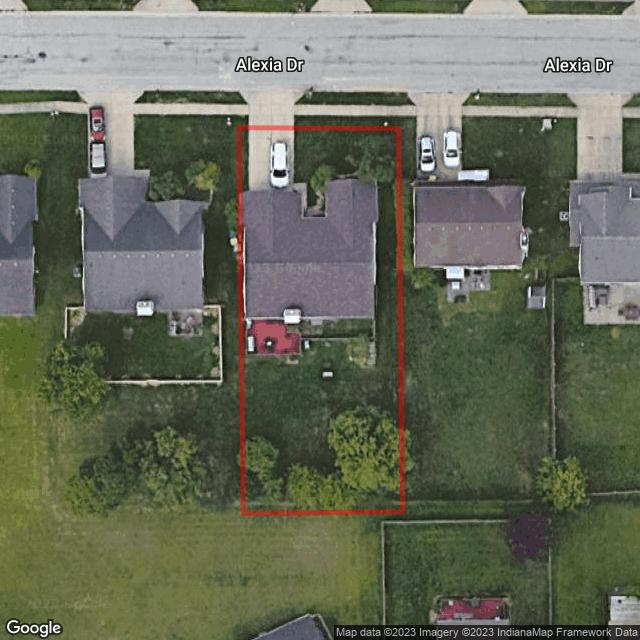Driveway: (248, 130, 308, 218)
Extra Driveway: (239, 90, 311, 128)
Extra Lawn: (292, 91, 398, 106), (294, 115, 400, 126), (238, 90, 248, 105), (239, 115, 249, 126)
Extra Sidewalk: (293, 105, 398, 116), (239, 105, 250, 116)
House: (242, 181, 376, 315)
Other: (246, 305, 302, 355), (322, 371, 332, 378), (304, 340, 310, 350)
